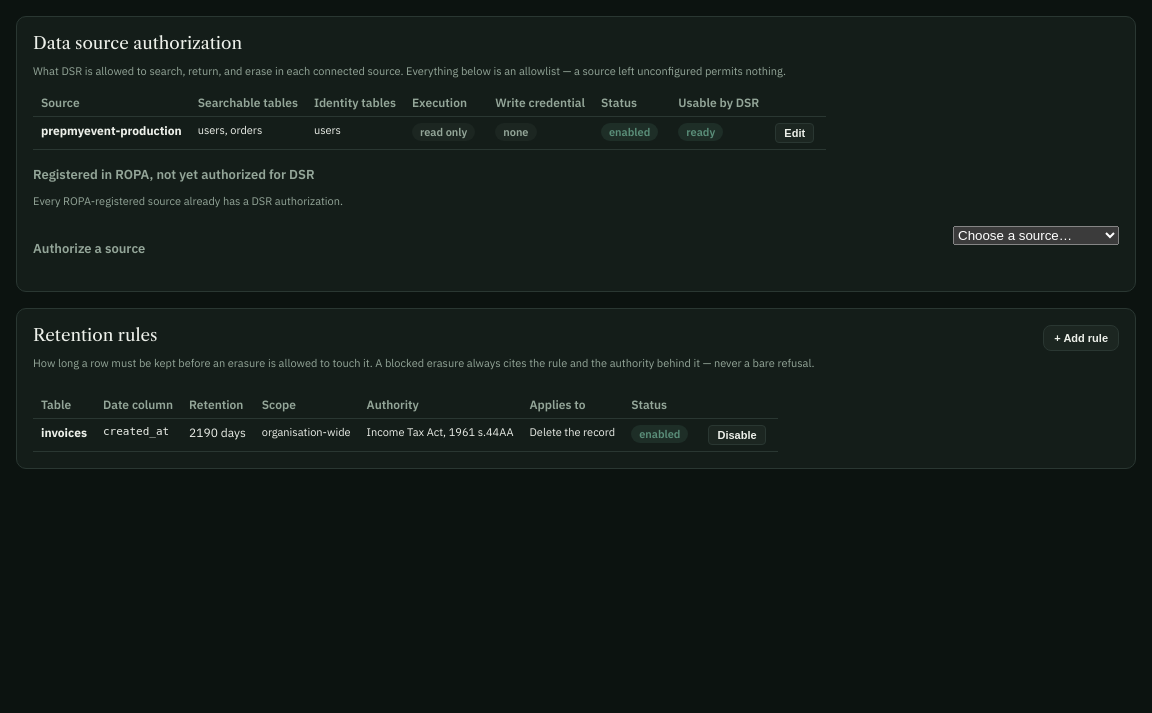
Scenario: DsrConfig: admin edits › adding a retention rule saves through the real PUT endpoint
Expected: the text "invoices" is shown, [41, 425, 87, 440]
Click the button "+ Add rule": (1081, 338) [1043, 325, 1119, 351]
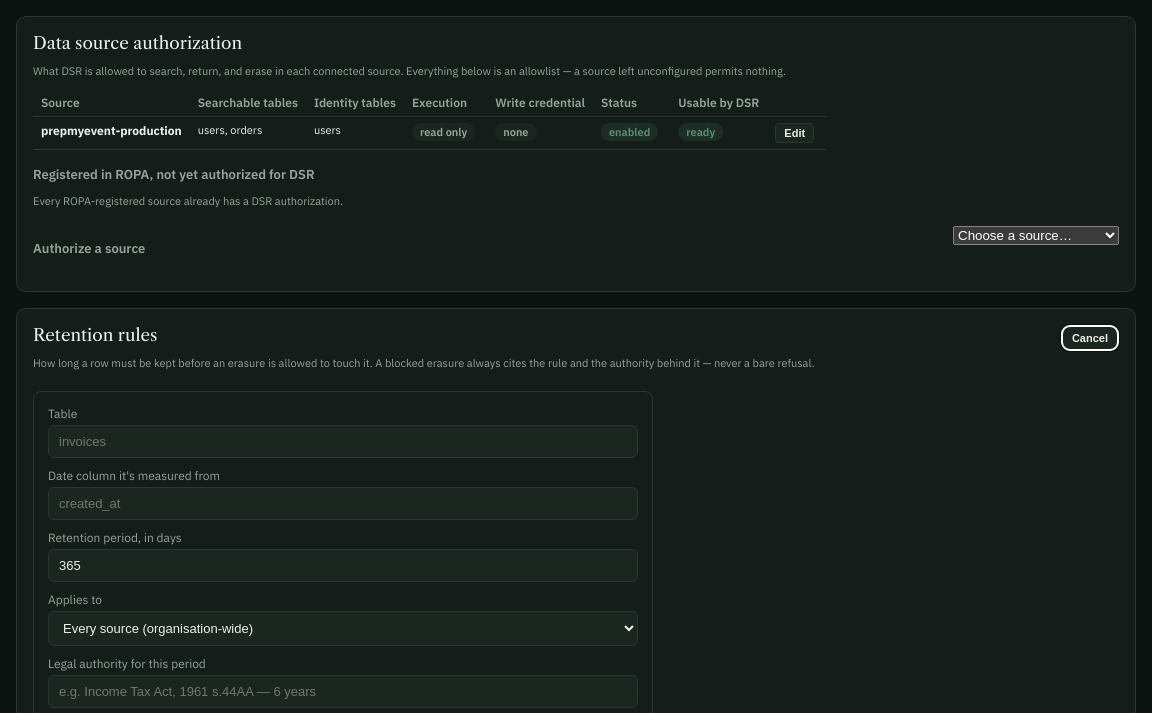
In the field with placeholder "invoices": (343, 442) [48, 425, 638, 458], type "support_tickets"
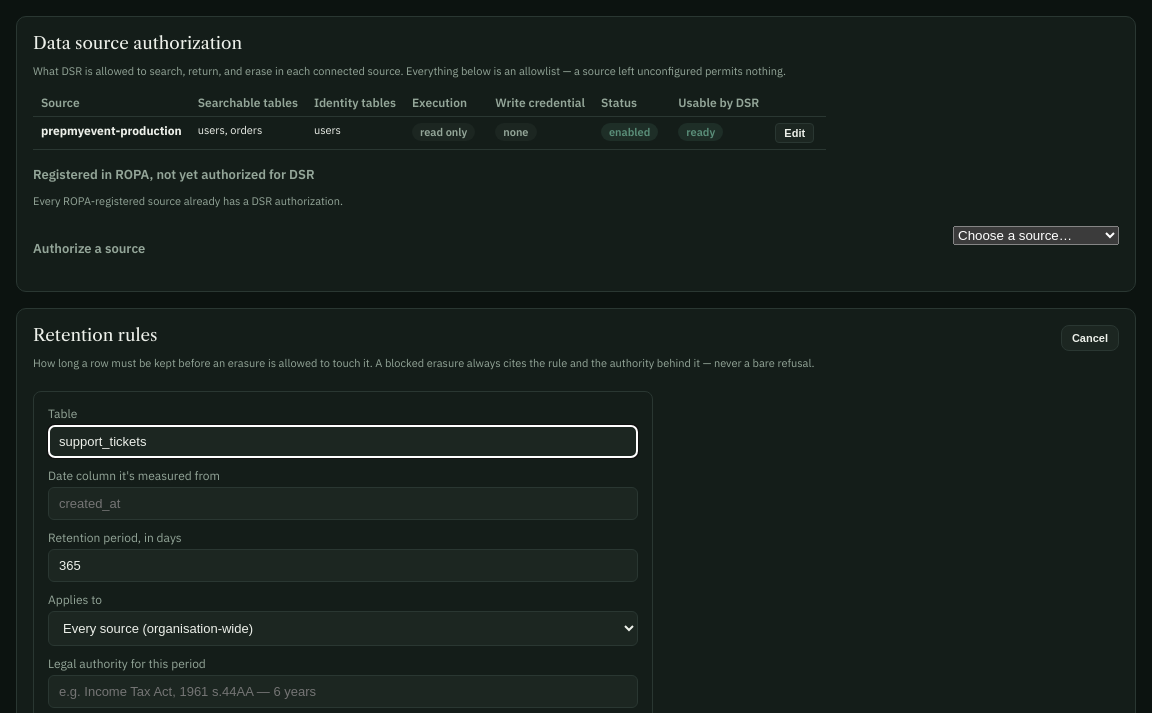
In the field with placeholder "created_at": (343, 504) [48, 487, 638, 520], type "opened_at"
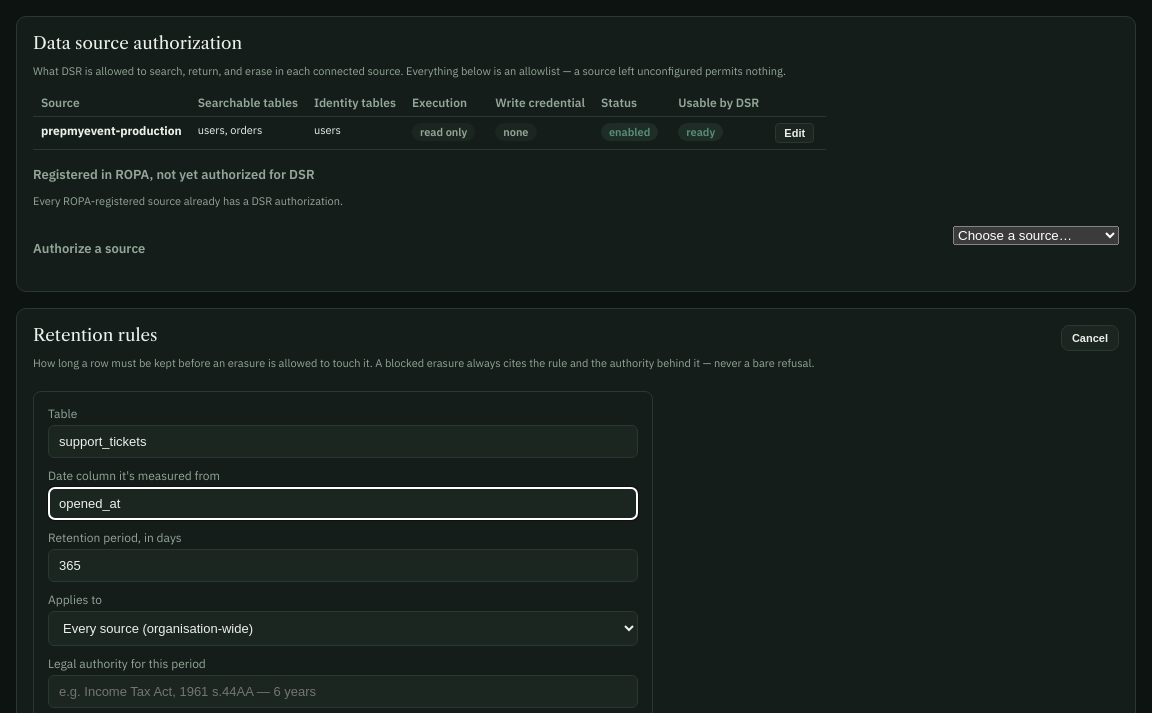
In the field with placeholder "e.g. Income Tax Act, 1961 s.44AA — 6 years": (343, 692) [48, 675, 638, 708], type "Consumer Protection Act — 2 years"
(page scrolled)
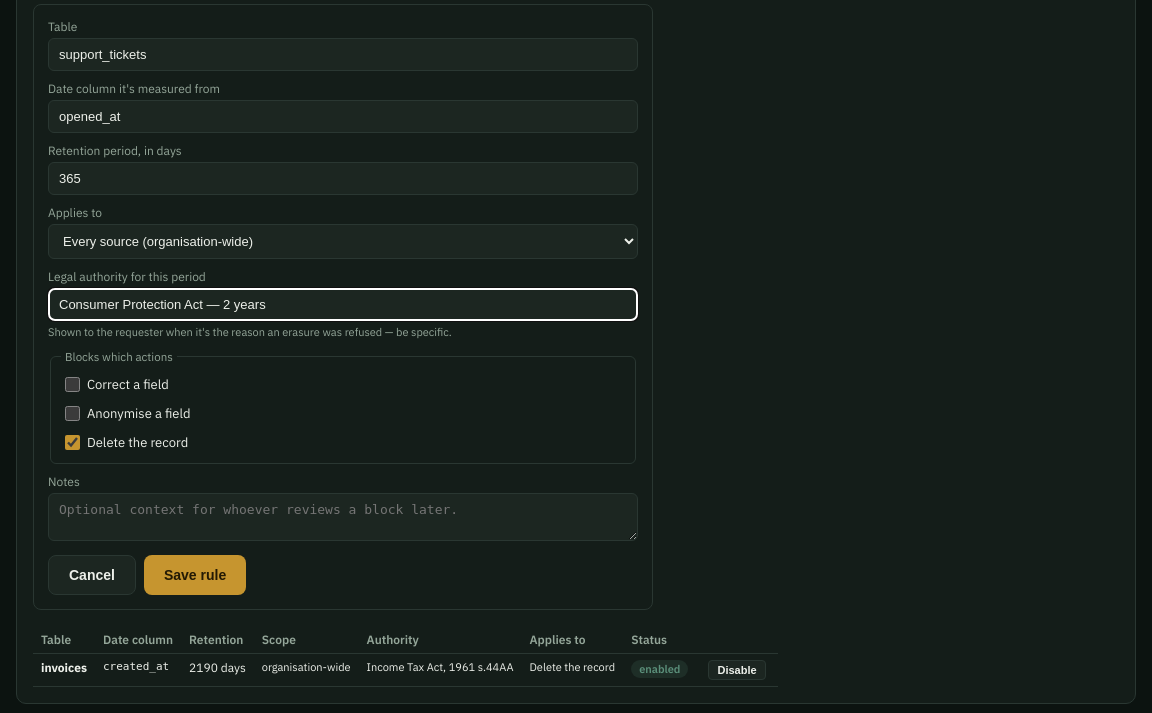
Click the button "Save rule": (195, 575) [144, 555, 246, 595]
(page scrolled)
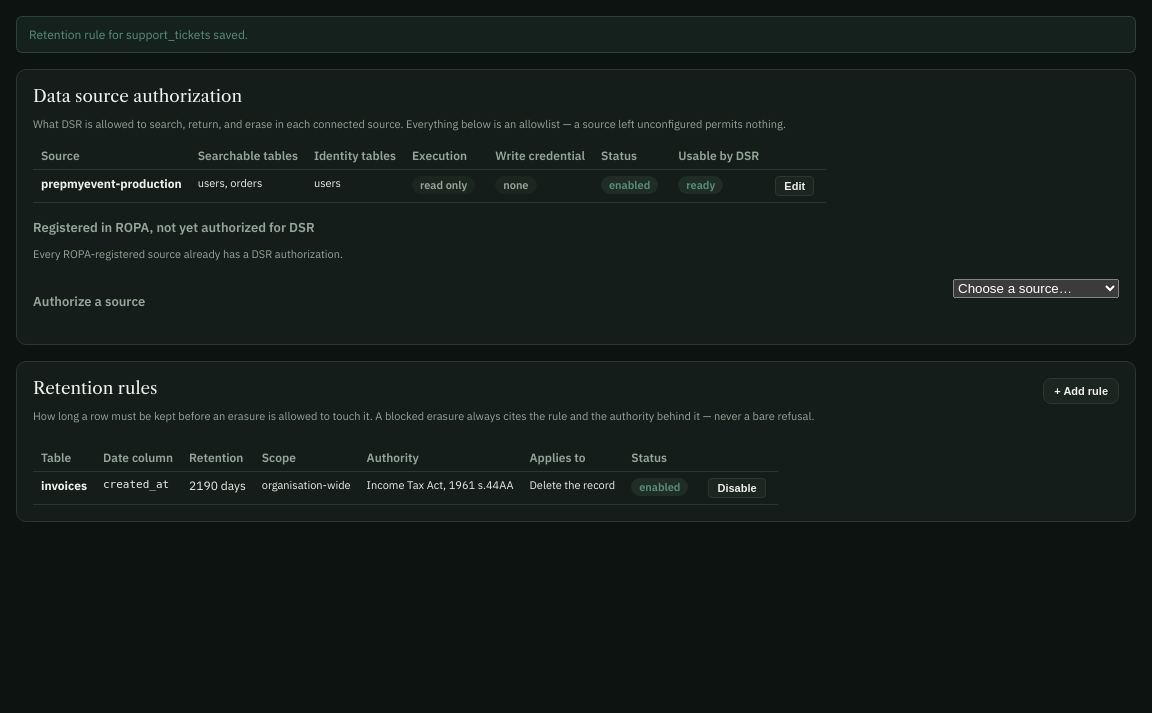
Expected: the text "Retention rule for support_tickets saved." is shown, [16, 16, 1136, 53]
